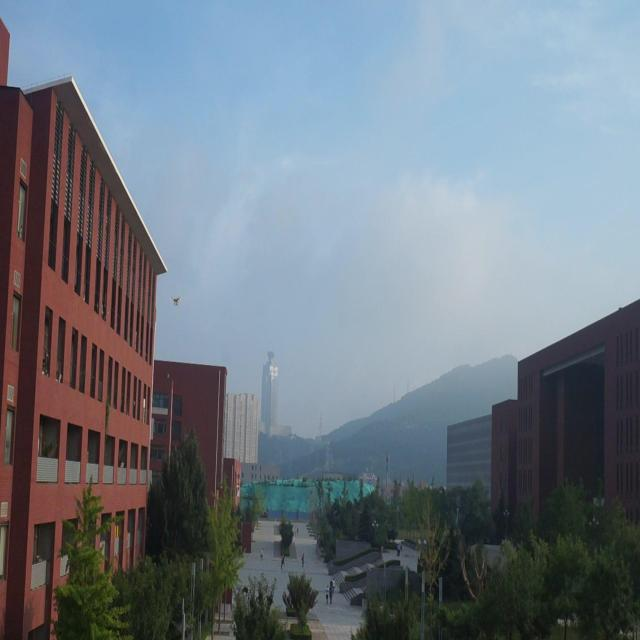drone: (168, 292, 184, 311)
